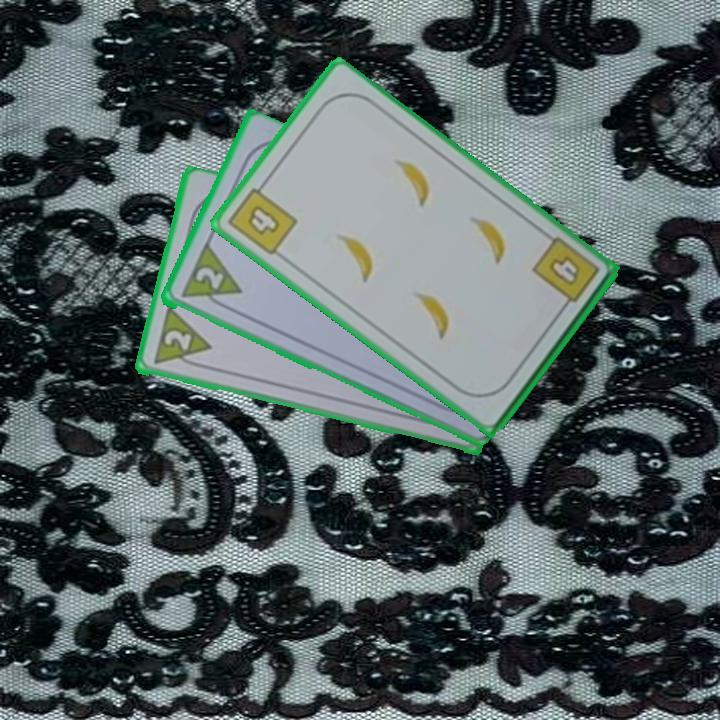2p: (176, 242, 244, 315), (149, 305, 214, 373)
4b: (224, 177, 300, 259), (528, 233, 602, 315)
